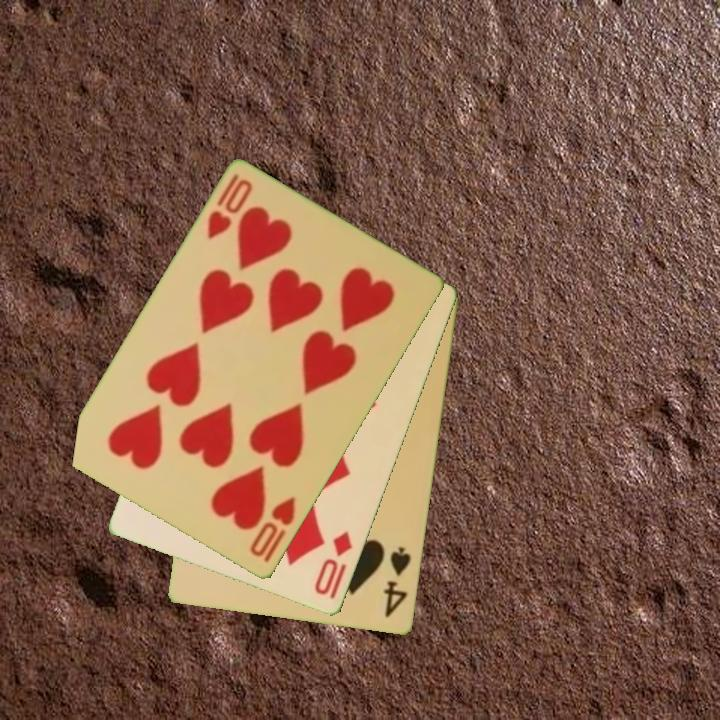10d: (311, 528, 356, 599)
10h: (203, 171, 256, 243), (246, 493, 299, 561)
4s: (380, 543, 414, 621)
